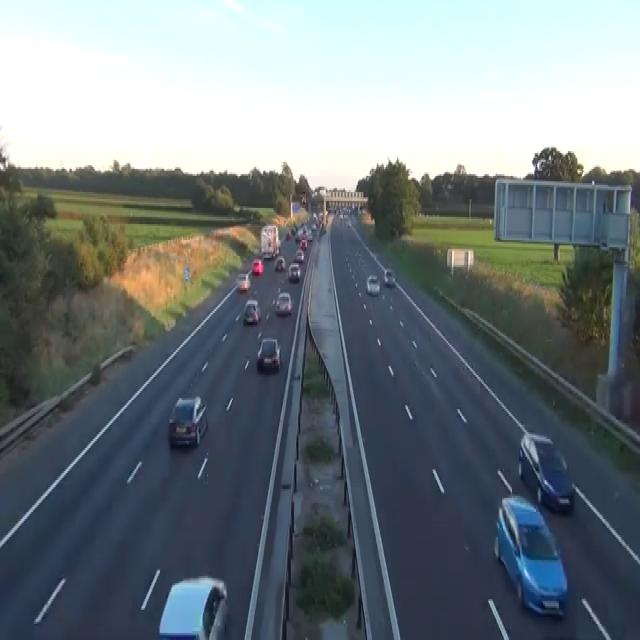Car: (493, 492, 568, 618), (518, 432, 575, 514), (158, 574, 228, 638), (167, 395, 208, 448), (256, 338, 281, 372), (243, 298, 260, 324), (275, 292, 292, 314), (235, 272, 251, 292), (365, 274, 380, 295), (288, 261, 300, 281), (383, 268, 395, 286), (252, 258, 263, 274), (294, 247, 304, 263), (274, 256, 285, 270), (263, 250, 272, 260), (319, 224, 326, 235), (300, 238, 307, 249), (276, 238, 281, 252), (285, 229, 291, 240), (306, 229, 312, 240), (300, 194, 306, 204), (294, 233, 300, 242), (291, 226, 297, 234), (311, 222, 316, 231), (347, 220, 350, 228)
Truck: (260, 224, 280, 260)
